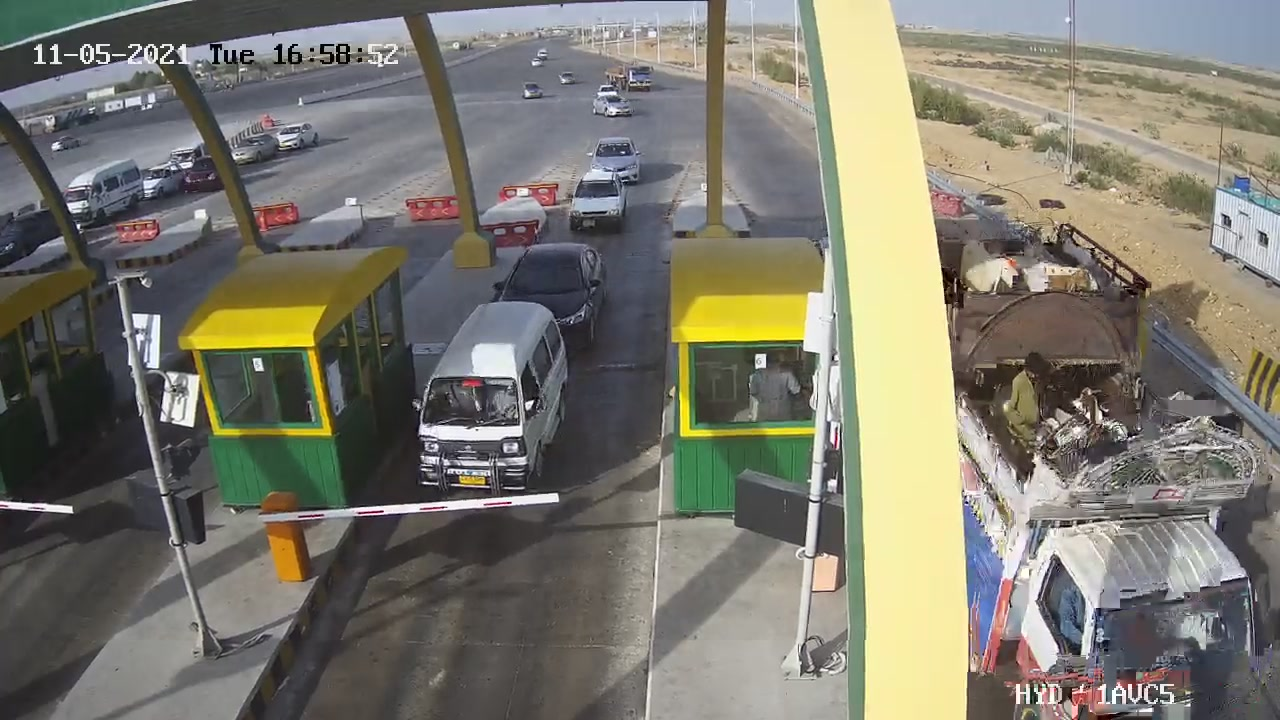F1: (394, 292, 587, 511), (555, 162, 644, 246)
